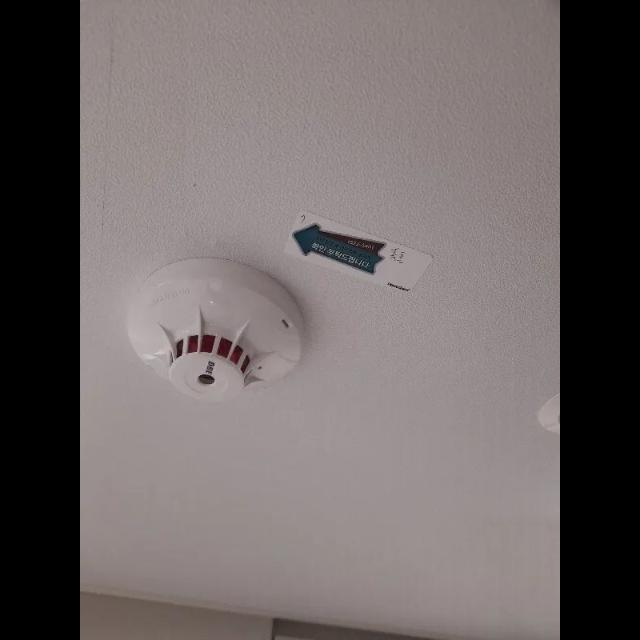Smoke-Detector: (125, 256, 307, 404)
